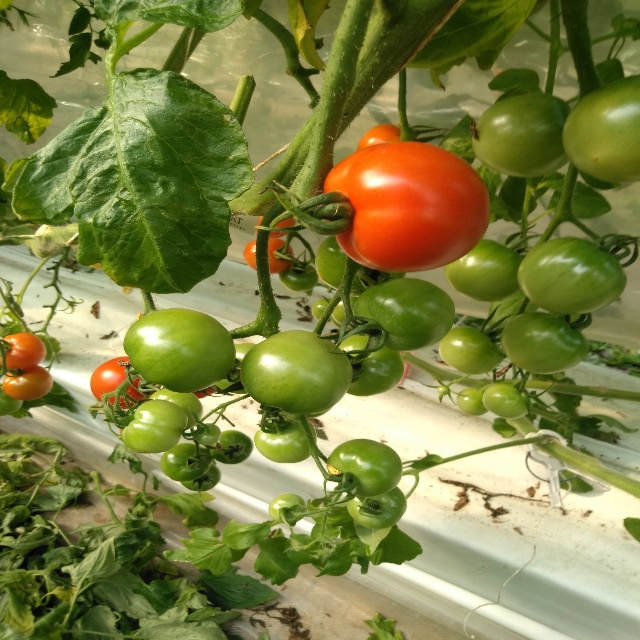l_fully_ripened: (322, 141, 491, 272), (90, 356, 160, 409), (243, 237, 294, 274), (357, 123, 417, 151)
l_green: (123, 308, 236, 393), (240, 330, 352, 415), (470, 93, 571, 178), (517, 237, 627, 315), (562, 74, 640, 182), (353, 277, 455, 351), (315, 234, 407, 298), (501, 312, 590, 374), (443, 239, 524, 302), (326, 439, 404, 497), (336, 333, 404, 396), (122, 399, 189, 453), (439, 325, 504, 375), (254, 416, 317, 463), (346, 486, 407, 529), (147, 388, 204, 431), (215, 343, 257, 394), (160, 443, 213, 481), (482, 382, 532, 419), (208, 430, 253, 464), (268, 493, 308, 524), (179, 463, 221, 491), (279, 262, 318, 292), (457, 389, 489, 416), (195, 423, 221, 445), (438, 386, 449, 395)
l_half_ripened: (2, 366, 54, 401), (0, 332, 47, 369)
